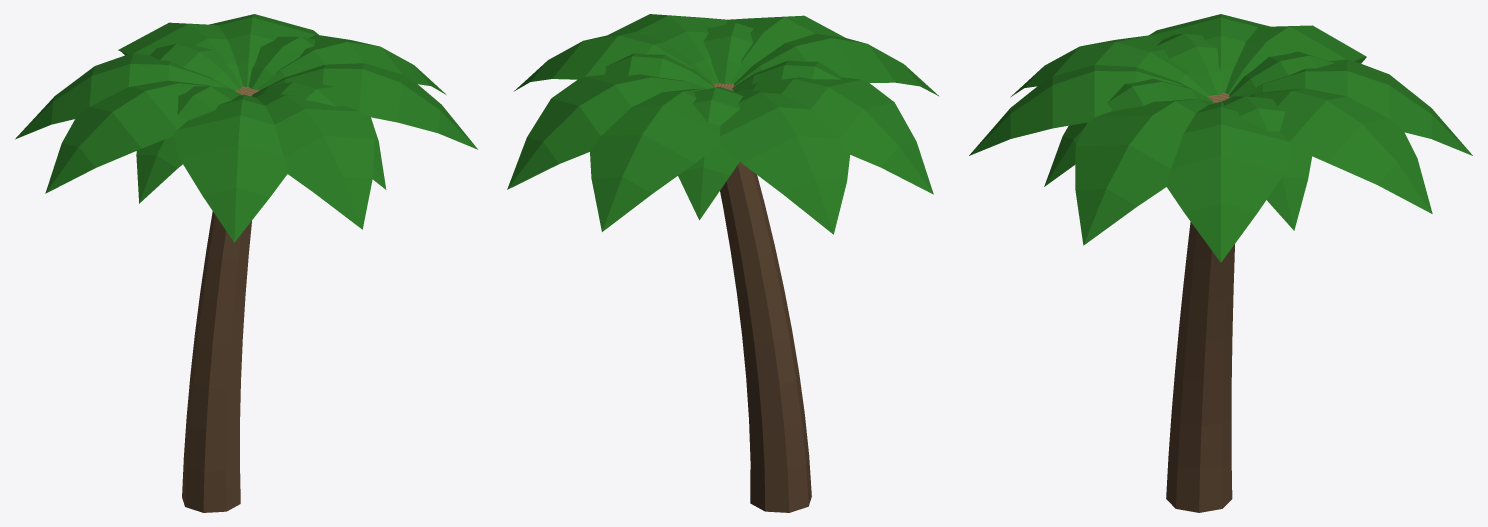
The model's file is PalmTree.fbx.
The picture shows the model from 3 angles, left to right: view 1: azimuth 30°, elevation 25°; view 2: azimuth 150°, elevation 25°; view 3: azimuth 270°, elevation 25°; orthographic projection. The views are drawn at different scales.
Parts seen in each view (by area): view 1: PalmTree; view 2: PalmTree; view 3: PalmTree.
Part boxes in pixels (x1,y1,x2,y2): PalmTree: [15, 14, 477, 512]; PalmTree: [507, 14, 939, 512]; PalmTree: [969, 14, 1472, 512].
Bounding box in the file's own units: 580 × 573 × 580.
Materials: 4 (4 with a texture image).
